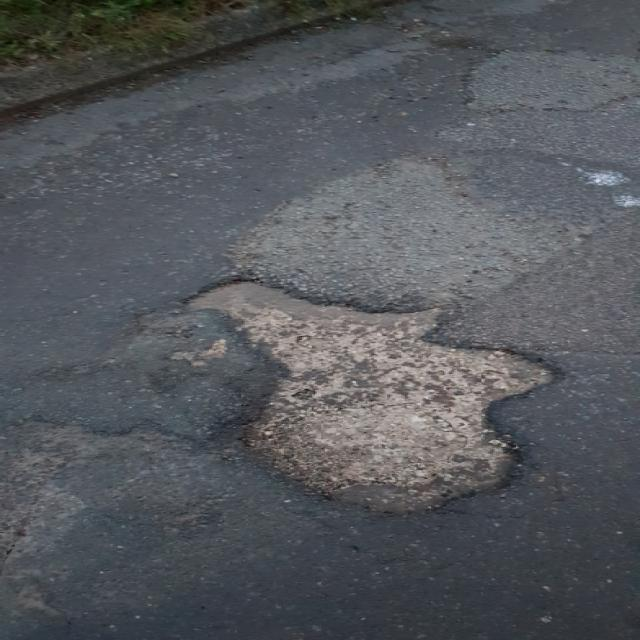pothole: (176, 270, 572, 516)
